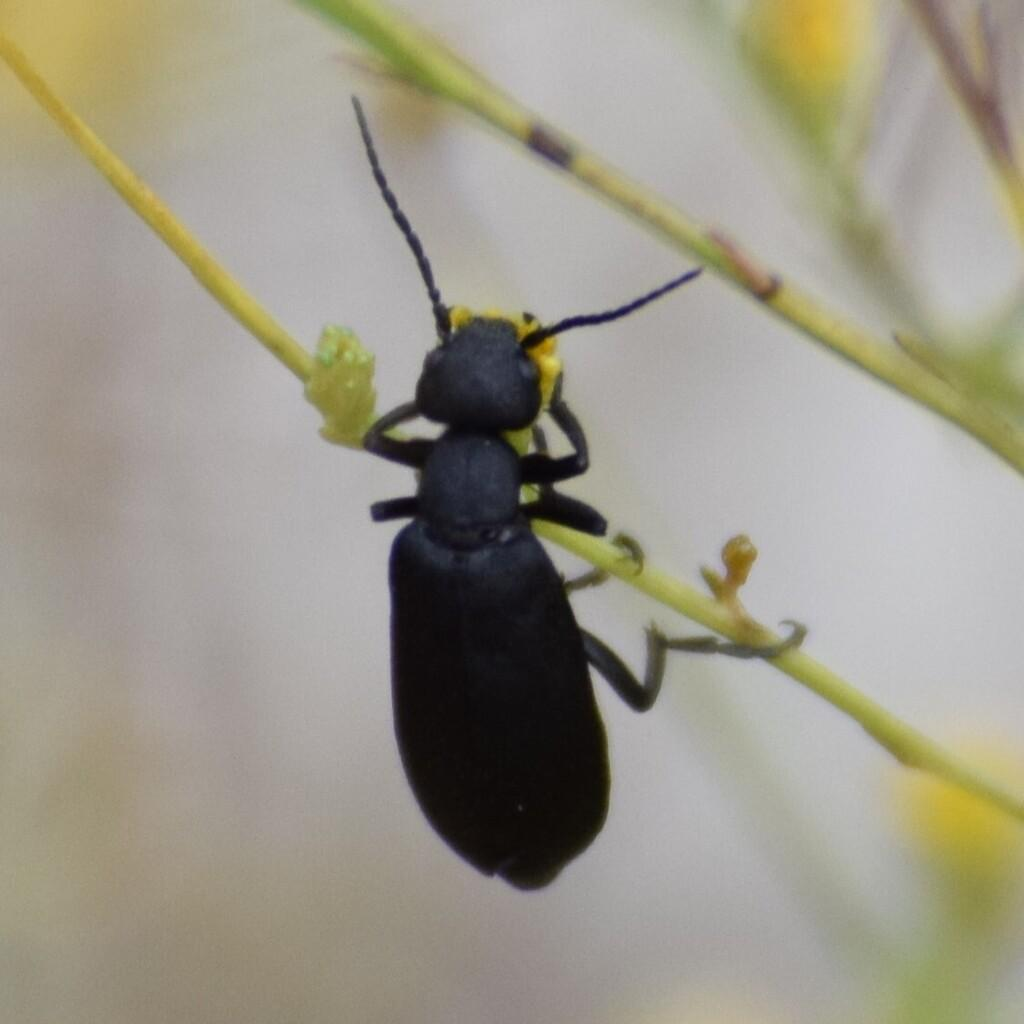blister_beetle: (199, 25, 856, 982)
